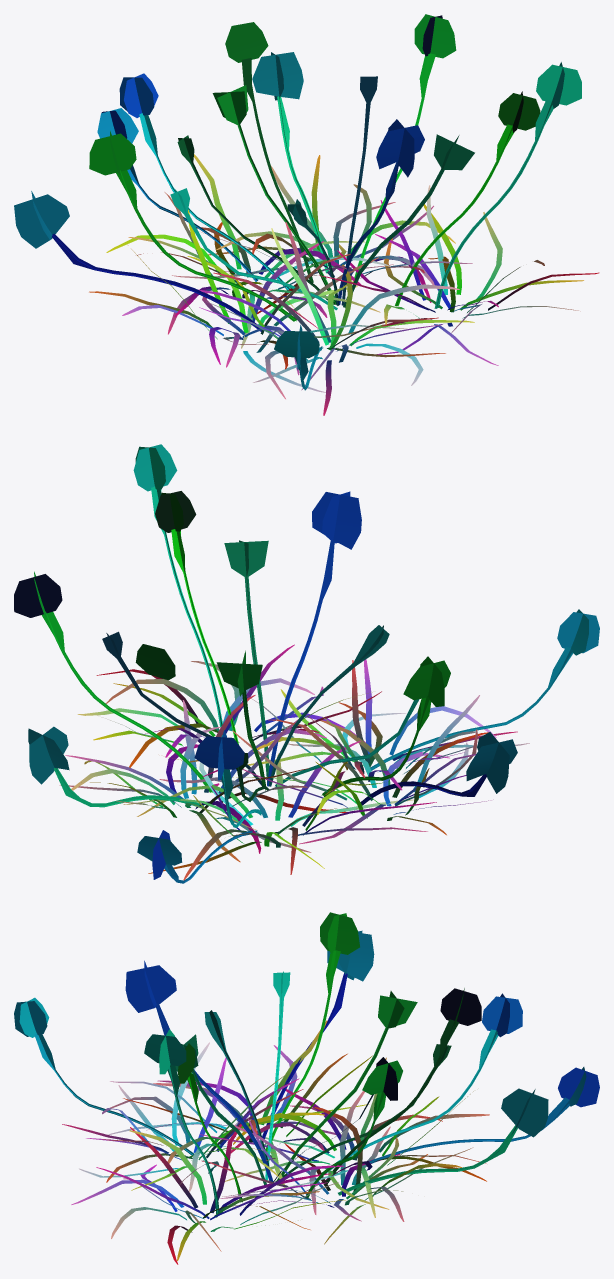
File: Sea_Thrift_vkbgaihha_Mid_vkbgaihha_VarE_LOD0.fbx
The picture shows the model from 3 angles, top to bottom: view 1: azimuth 30°, elevation 25°; view 2: azimuth 150°, elevation 25°; view 3: azimuth 270°, elevation 25°; orthographic projection. The views are drawn at different scales.
Visible parts, largest first — view 1: _met6_VarE_LOD1; view 2: _met6_VarE_LOD1; view 3: _met6_VarE_LOD1.
Part boxes in pixels (x1,y1,x2,y2): _met6_VarE_LOD1: [14, 14, 599, 415]; _met6_VarE_LOD1: [14, 444, 599, 883]; _met6_VarE_LOD1: [14, 912, 599, 1264].
Size of the model in its own units: 30.99 by 14.82 by 34.08.
